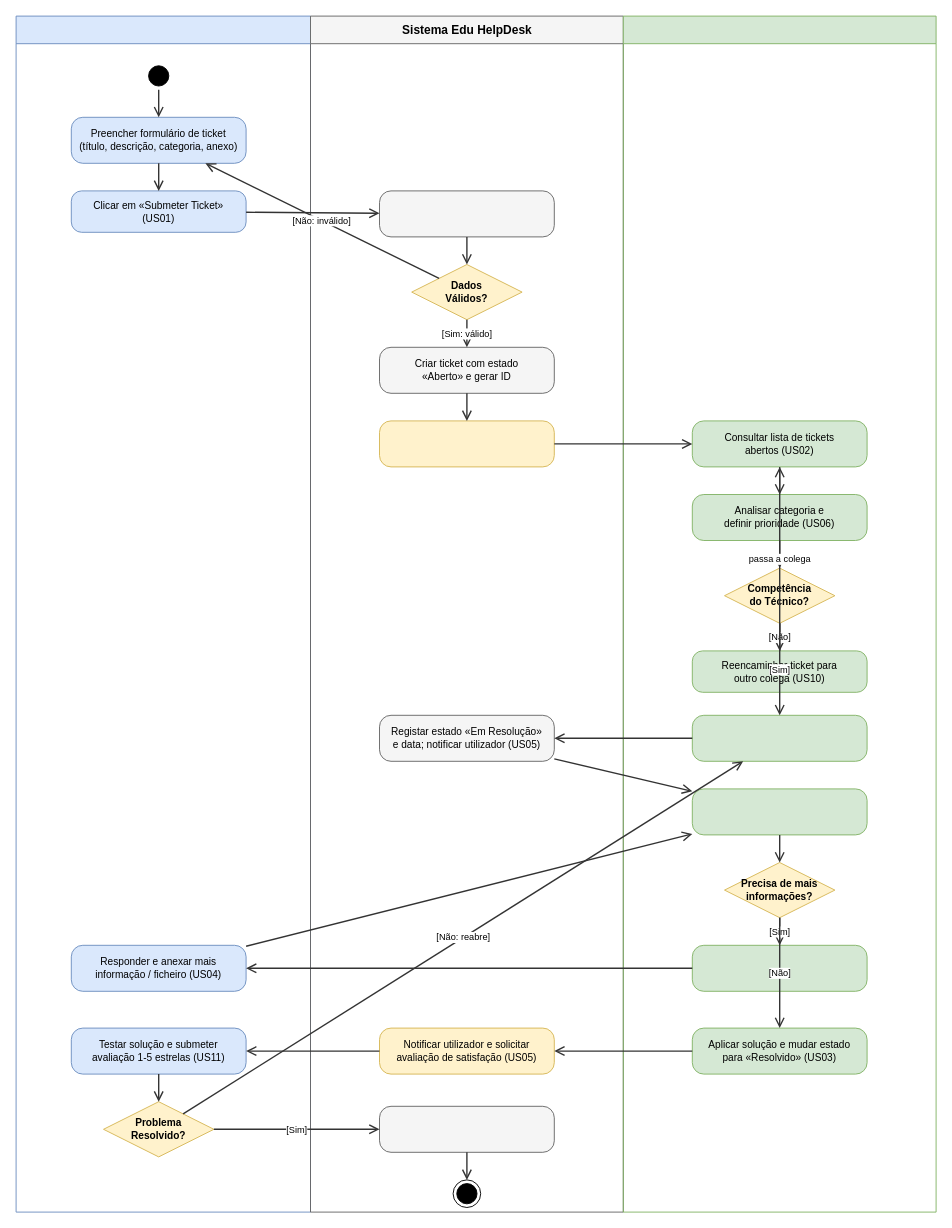
The diagram is 952 pixels wide and 1228 high, and some of its shapes have lost their labels. The shapes that lost their labels are listed below. From the top down, each one's box as (x1, y1, x2, y2) in pixels, then its label:
(379, 190, 554, 237): Validar campos obrigatórios e integridade dos anexos
(379, 420, 554, 467): Enviar email ao utilizador e alertar equipa técnica (US05)
(15, 15, 310, 1212): Utilizador (Requisitante)
(622, 15, 936, 1212): Técnico de Suporte
(691, 714, 867, 761): Atribuir a si e alterar estado para «Em Resolução» (US03)
(691, 788, 867, 835): Diagnosticar avaria e preparar resolução
(691, 944, 867, 991): Enviar mensagem ao utilizador (opção: usar Template US15)
(379, 1105, 554, 1152): Registar avaliação e alterar estado para «Fechado»
